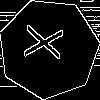X: (24, 23, 73, 62)
